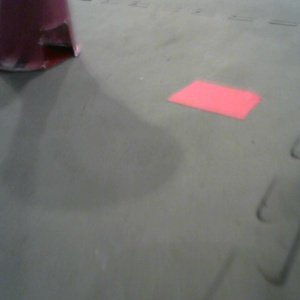middle: (1, 1, 80, 71)
